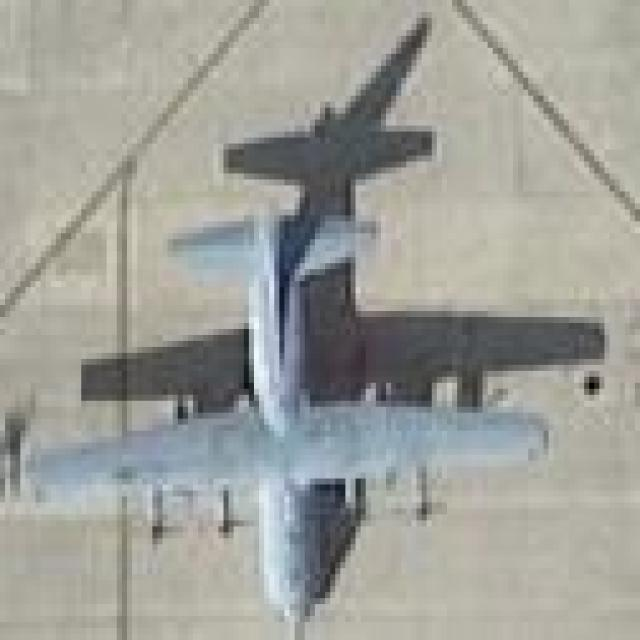C-130_TopDown: (16, 19, 618, 640)
